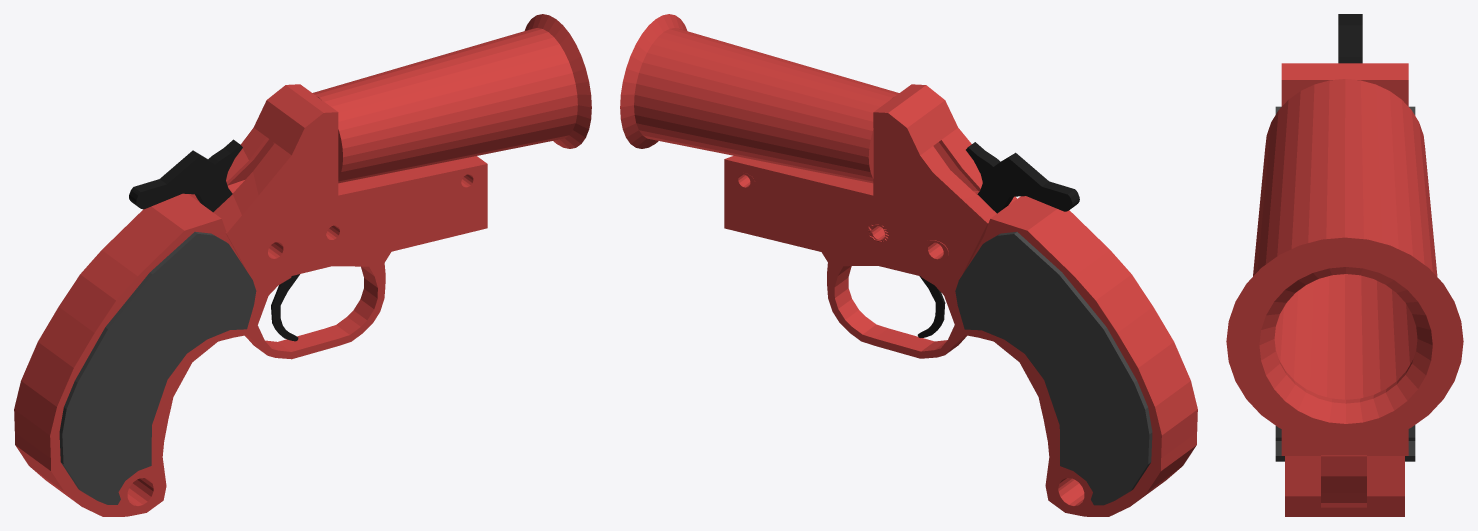
File: Flare Gun.fbx
The picture shows the model from 3 angles, left to right: view 1: azimuth 30°, elevation 25°; view 2: azimuth 150°, elevation 25°; view 3: azimuth 270°, elevation 25°; orthographic projection. The views are drawn at different scales.
Parts seen in each view (by area): view 1: Cube.001, Cylinder, Plane.005, Plane.004, Plane.002, Plane.001, Plane.003; view 2: Cube.001, Cylinder, Plane.006, Plane.004, Plane.002, Plane.001; view 3: Cylinder, Cube.001, Plane.004, Plane.002, Plane.001, Plane.006, Plane.005.
Boxes of the visible parts, x1=… form: Cube.001: x1=188, y1=84, x2=487, y2=284; Cylinder: x1=312, y1=14, x2=591, y2=183; Plane.005: x1=59, y1=231, x2=256, y2=504; Plane.004: x1=14, y1=193, x2=248, y2=516; Plane.002: x1=245, y1=252, x2=390, y2=359; Plane.001: x1=129, y1=139, x2=242, y2=212; Plane.003: x1=271, y1=274, x2=299, y2=341; Cube.001: x1=724, y1=84, x2=1016, y2=284; Cylinder: x1=620, y1=14, x2=899, y2=183; Plane.006: x1=955, y1=231, x2=1152, y2=505; Plane.004: x1=963, y1=196, x2=1197, y2=516; Plane.002: x1=822, y1=252, x2=966, y2=358; Plane.001: x1=966, y1=142, x2=1079, y2=213; Cylinder: x1=1226, y1=79, x2=1463, y2=445; Cube.001: x1=1281, y1=63, x2=1408, y2=455; Plane.004: x1=1285, y1=456, x2=1404, y2=516; Plane.002: x1=1321, y1=455, x2=1366, y2=507; Plane.001: x1=1338, y1=14, x2=1362, y2=63; Plane.006: x1=1405, y1=106, x2=1415, y2=461; Plane.005: x1=1275, y1=106, x2=1284, y2=461.
Size of the model in its own units: 804 by 551 by 189.
